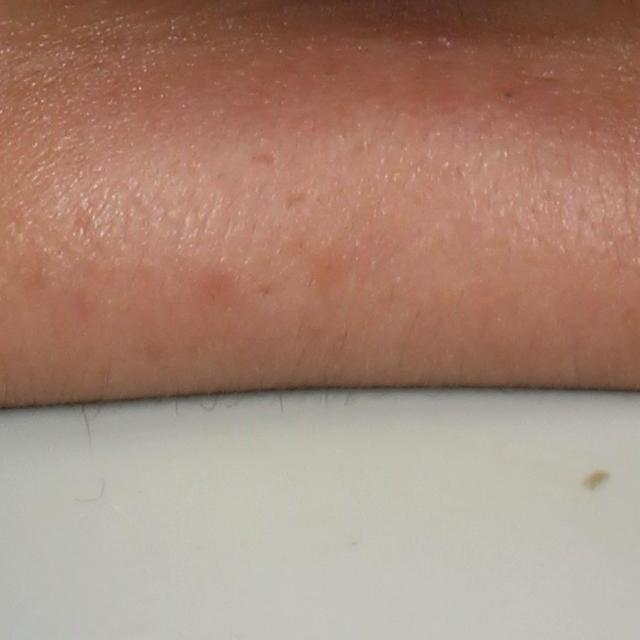atrophic_scar: (249, 148, 283, 171), (284, 188, 316, 212)
